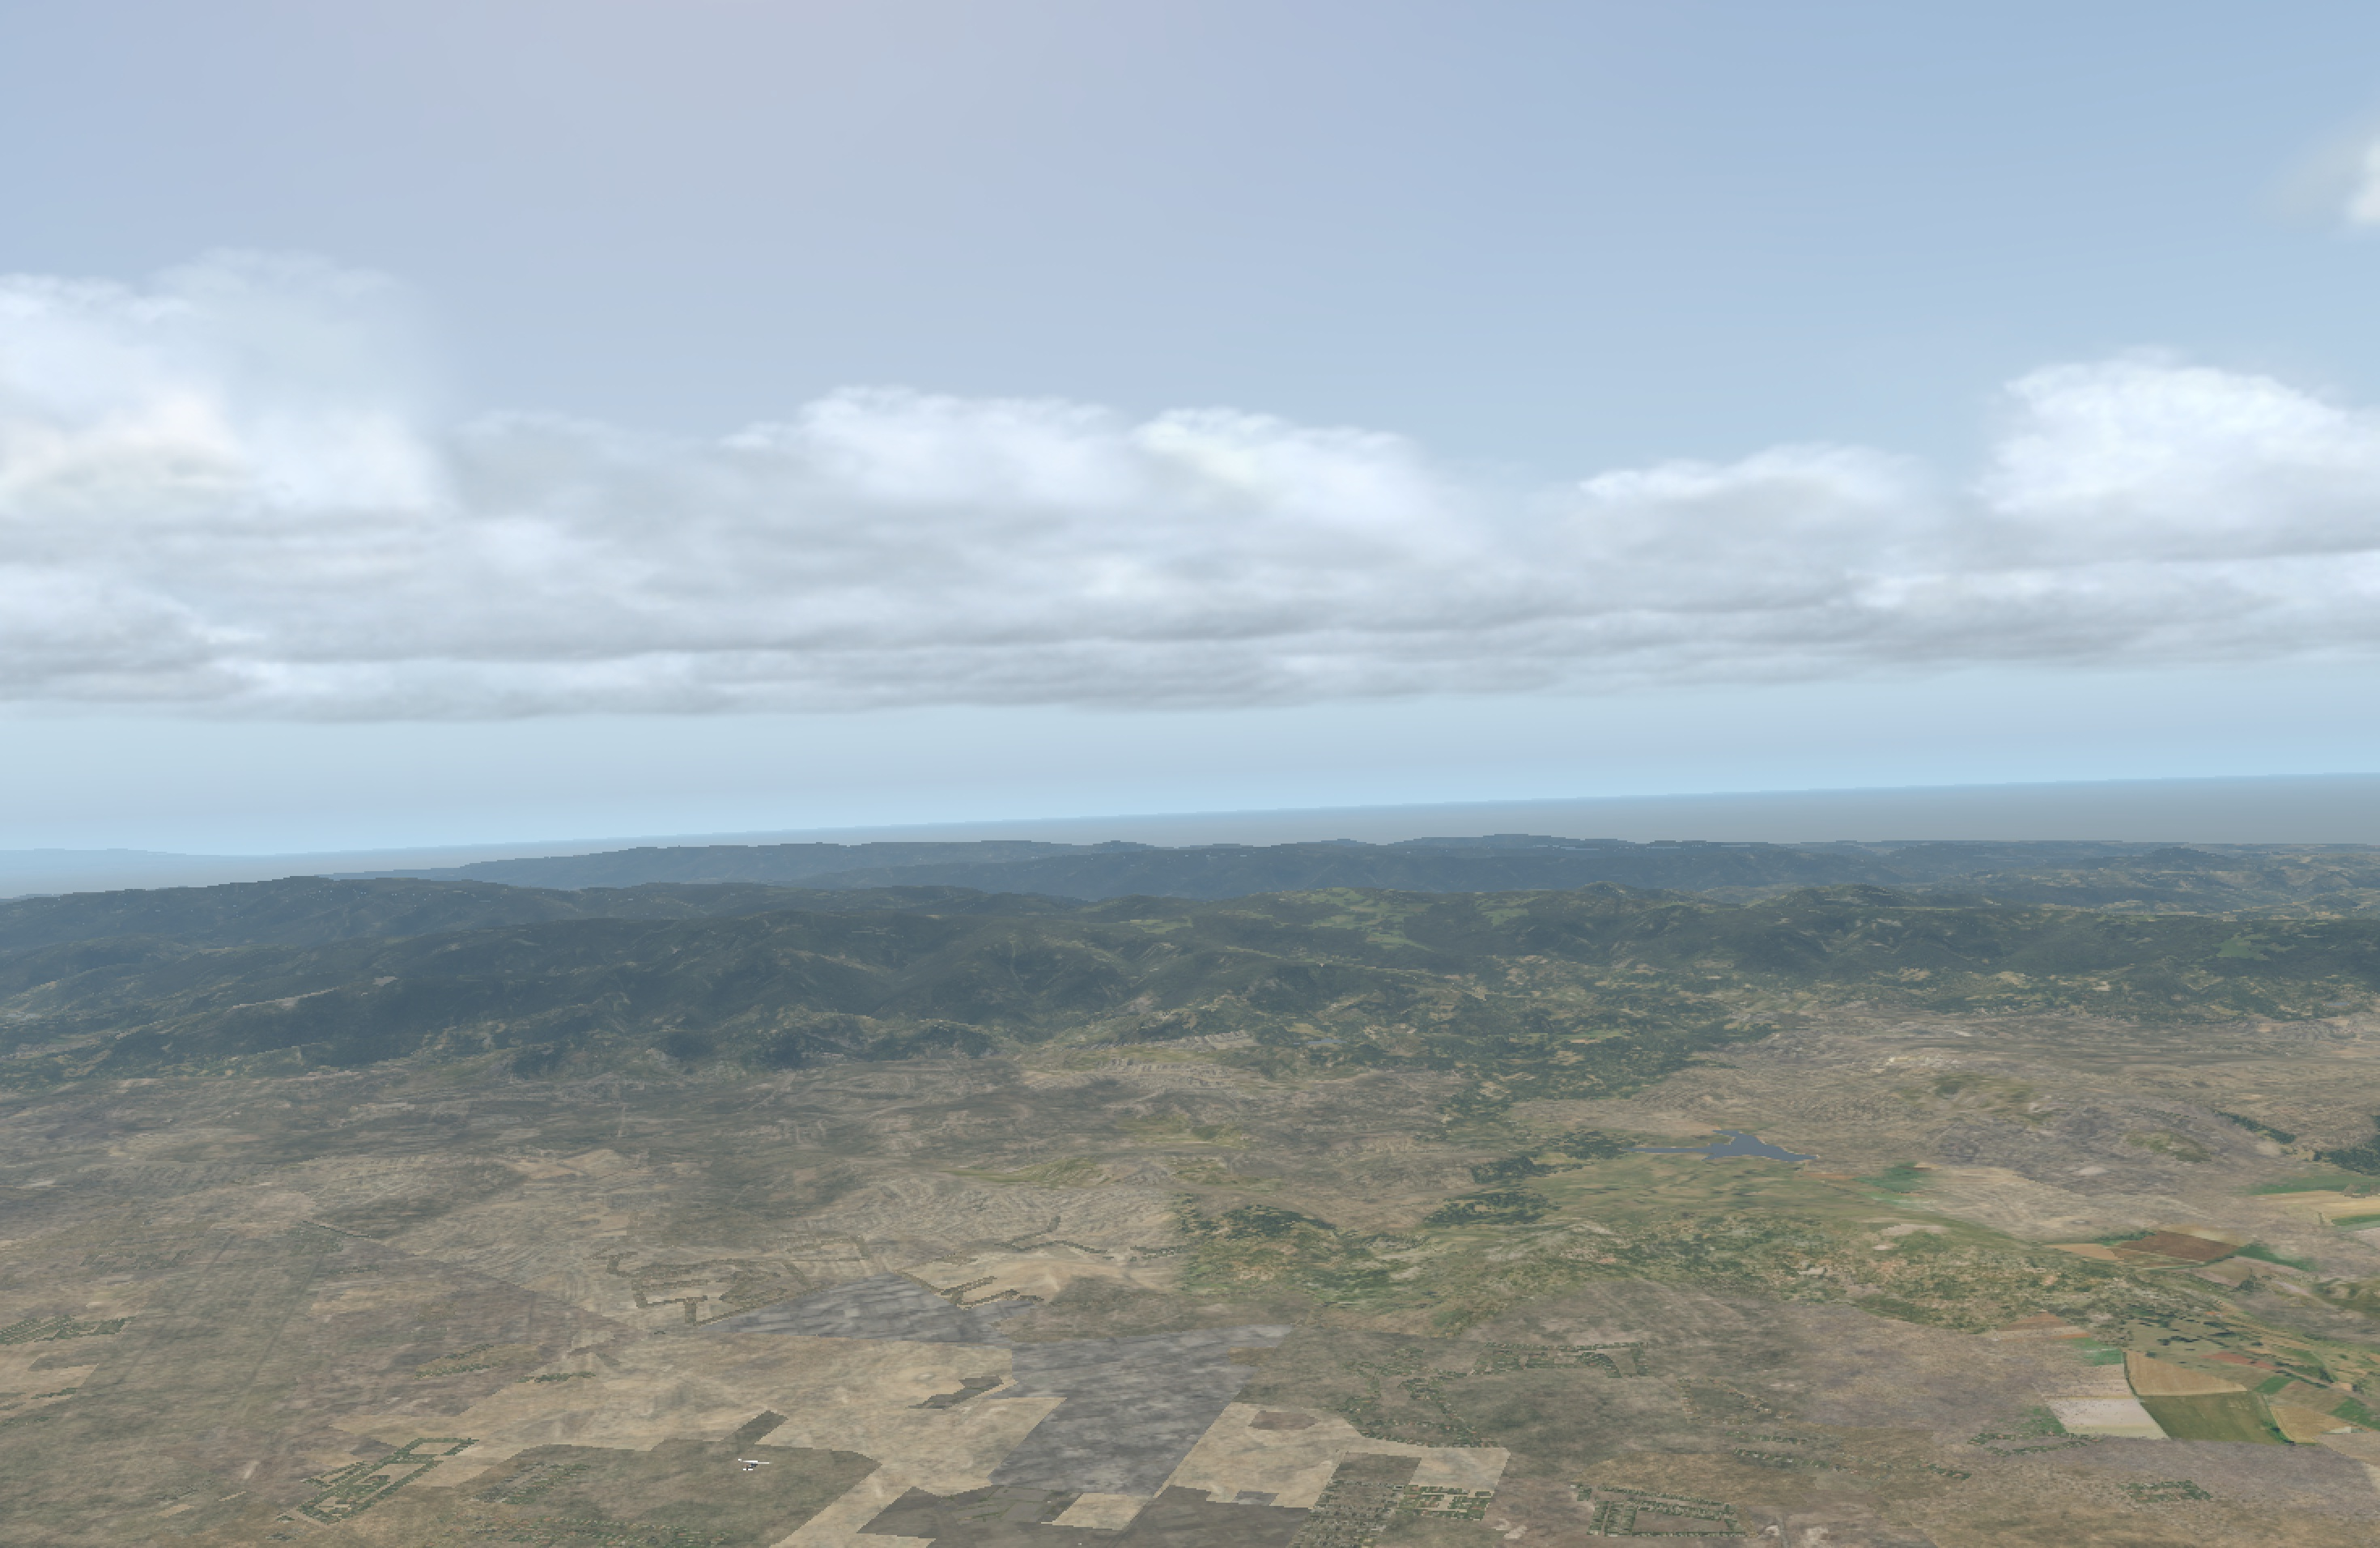aircraft: (742, 1459, 767, 1468)
